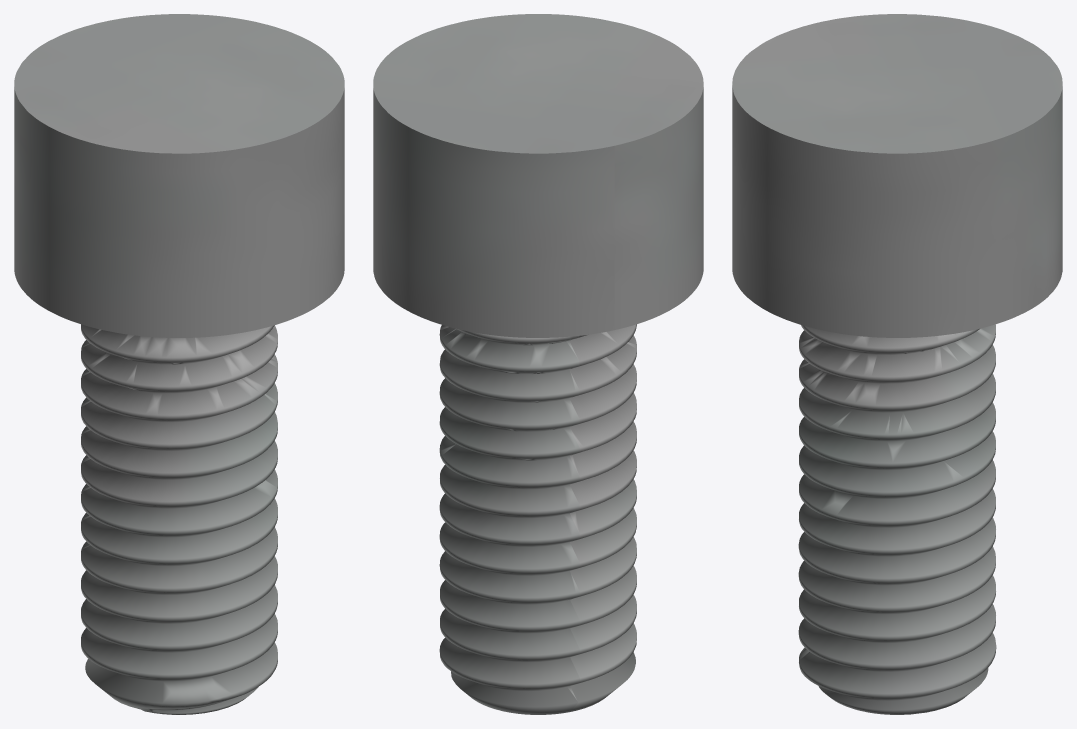
File: factory_bolt_m8_loose.glb
The picture shows the model from 3 angles, left to right: view 1: azimuth 30°, elevation 25°; view 2: azimuth 150°, elevation 25°; view 3: azimuth 270°, elevation 25°; orthographic projection.
Parts seen in each view (by area): view 1: part0; view 2: part0; view 3: part0.
Boxes of the visible parts, x1,y1,x2,y2 form: part0: [14, 14, 344, 714]; part0: [373, 14, 703, 714]; part0: [732, 14, 1062, 714].
Size of the model in its own units: 0.013 by 0.026 by 0.013.
1 material, 1 textured.
